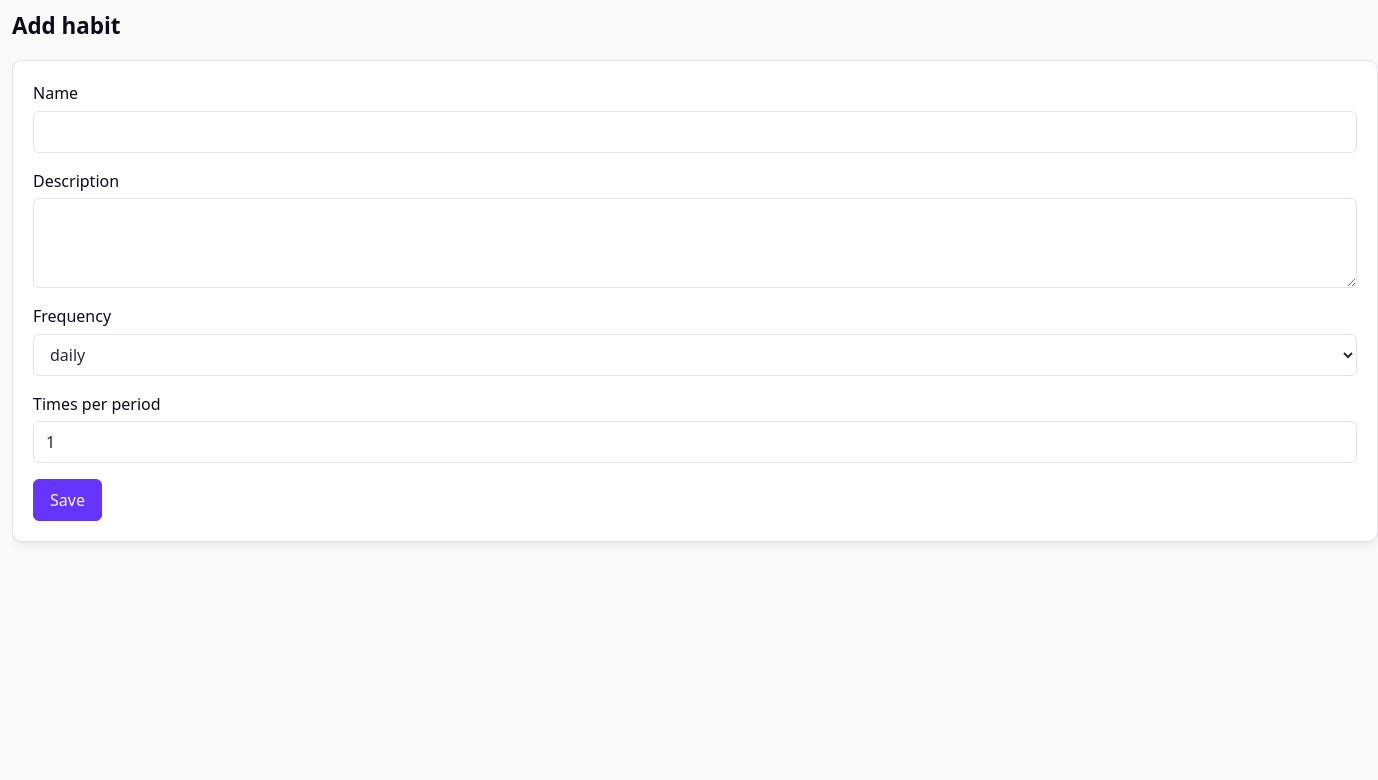
Test: AddHabit › shows an error message when create fails and stays on the page
In the field labelled "Name": {"x": 695, "y": 132} [33,111,1357,153], type "Run"
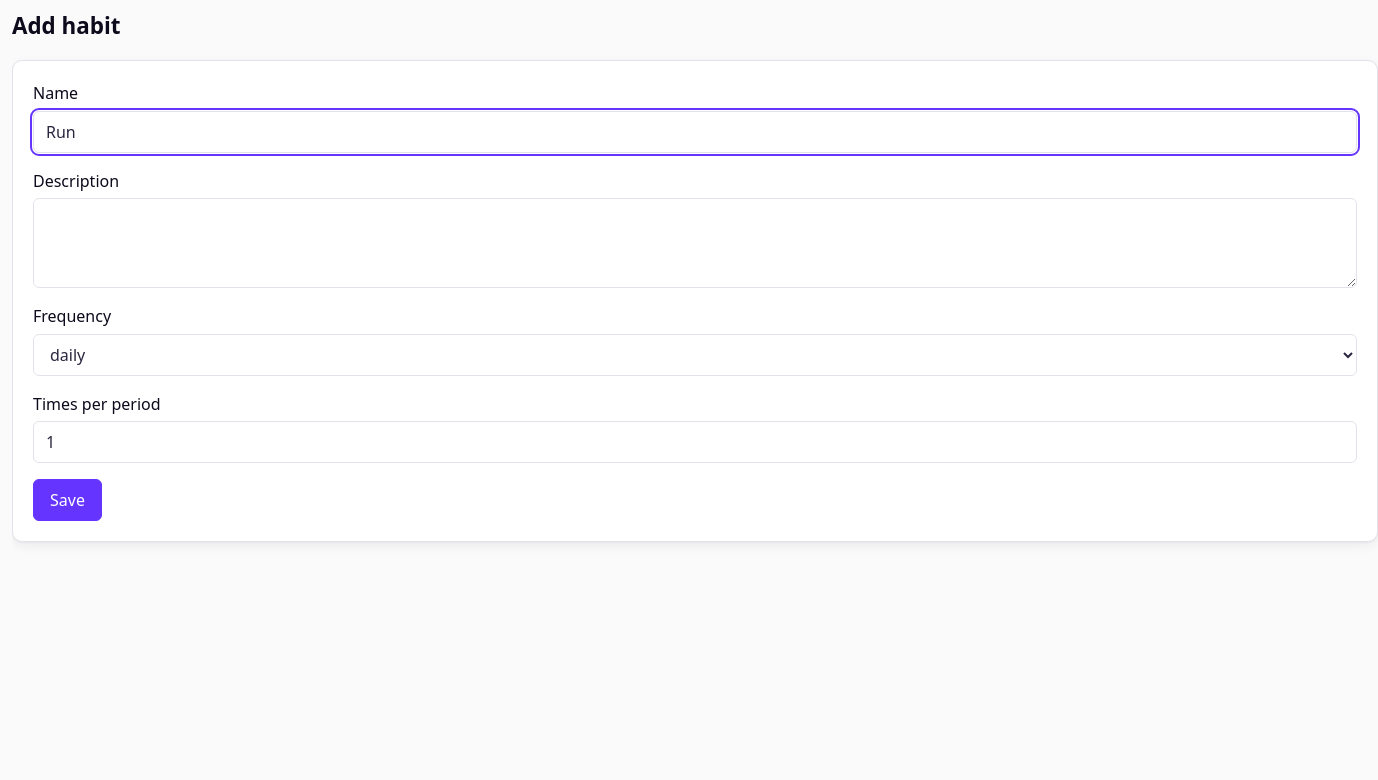
Click the button "Save": {"x": 67, "y": 500} [33,479,102,521]
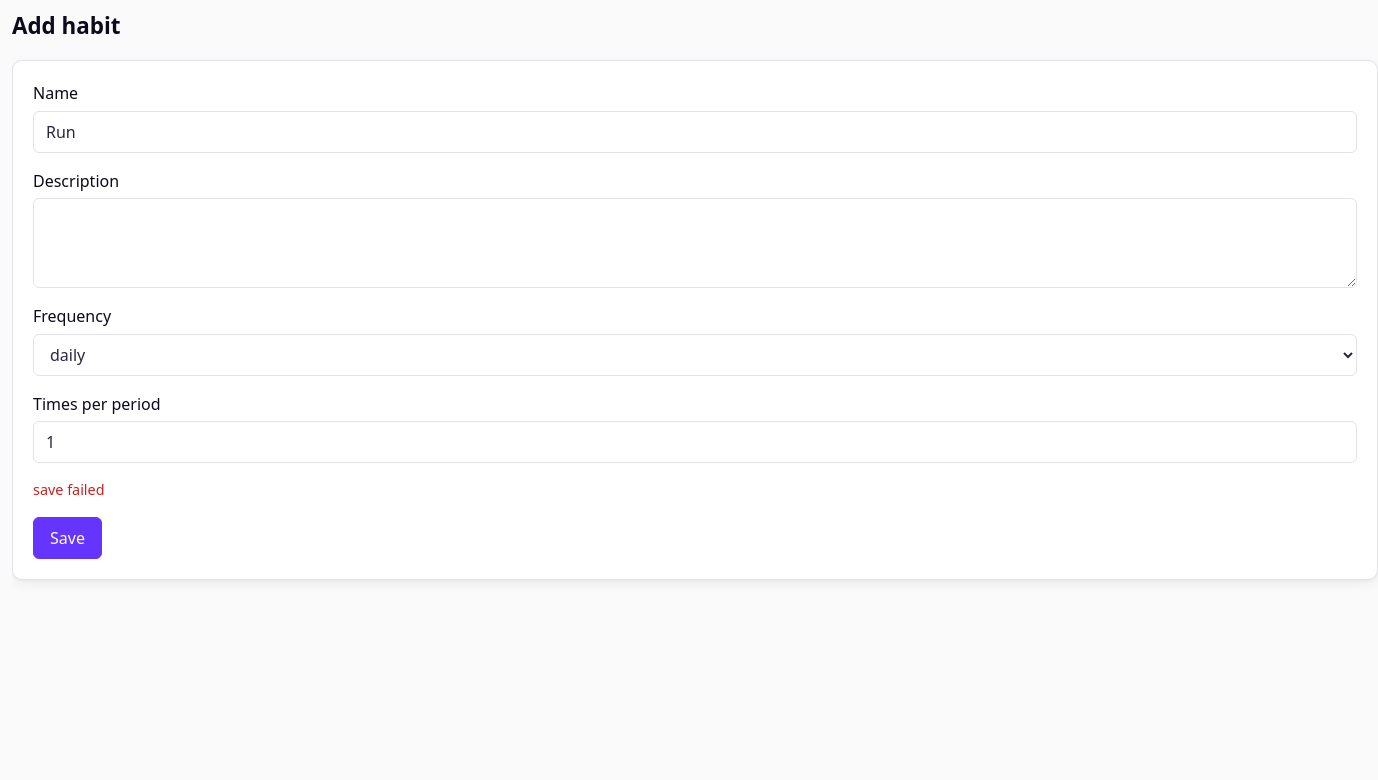
expect the text "save failed" is shown: met, box [33,480,105,499]
